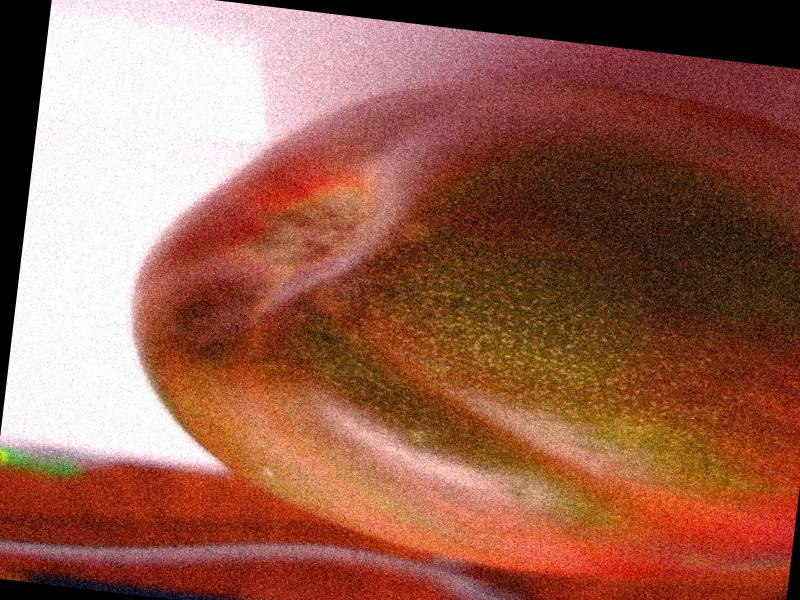Tomato: (109, 36, 800, 600)
